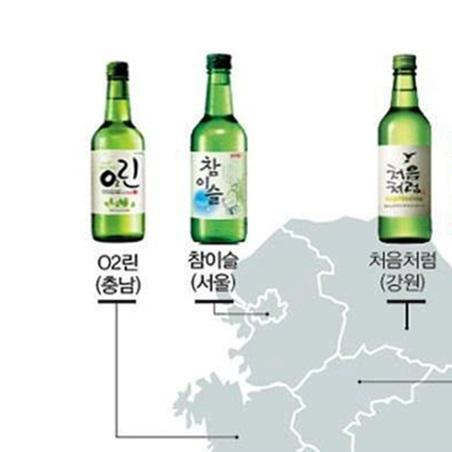soju: (187, 52, 252, 247), (375, 52, 435, 247), (87, 57, 149, 245)
